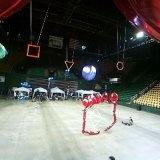Green_Balloon: (0, 42, 9, 59)
Orange_Circle_GShape: (116, 60, 124, 70)
Orange_Square_GShape: (26, 44, 40, 58)
Orange_Triangle_Gshape: (64, 60, 74, 70)
Purple_Balloon: (80, 64, 97, 81), (82, 45, 86, 50)
